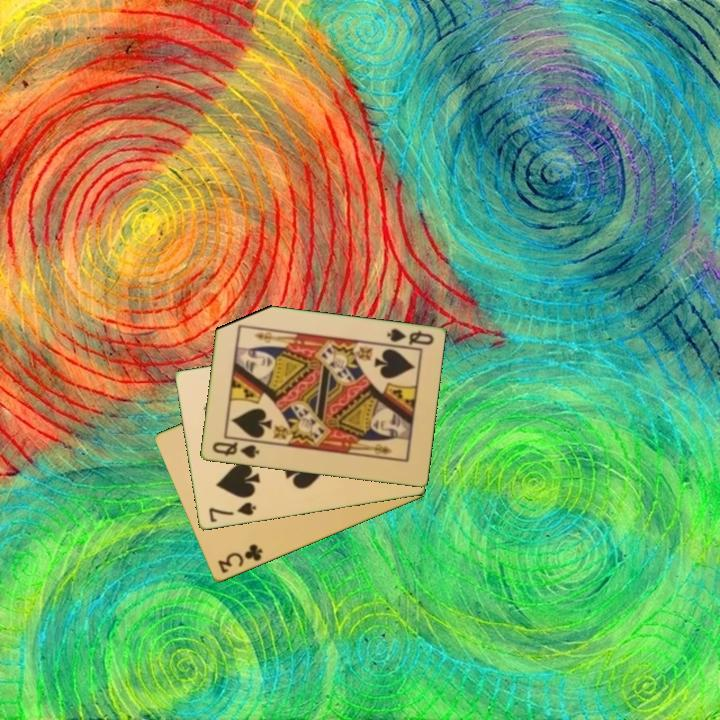3c: (214, 541, 266, 576)
7s: (205, 499, 259, 526)
Qs: (208, 438, 262, 462), (383, 325, 436, 348)
